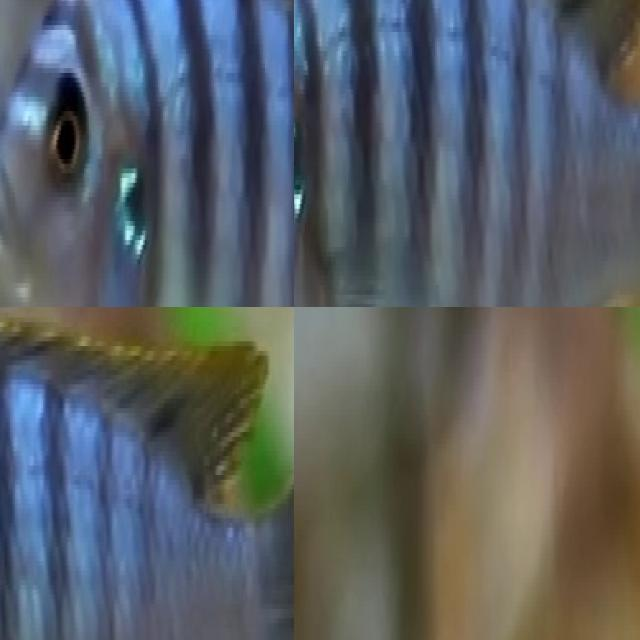fish: (294, 0, 640, 307), (0, 307, 294, 640), (0, 0, 294, 307)
